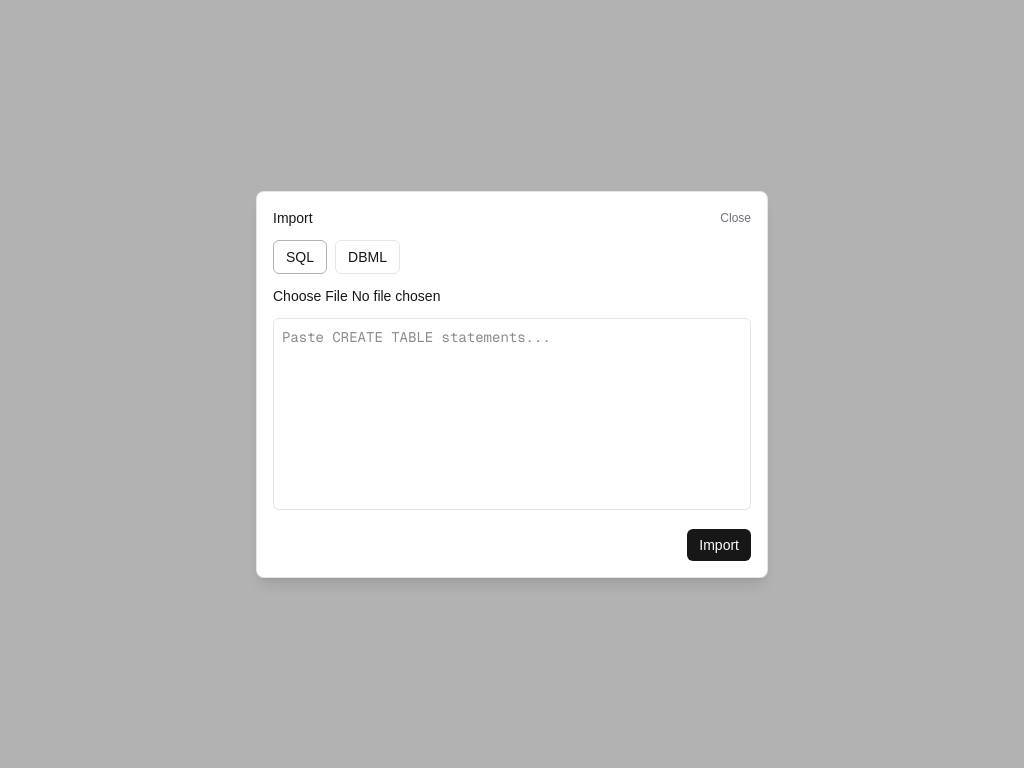
ImportDialog › requires some input before importing
Click the button "Import" at (719, 544), box top-left (687, 528), bottom-right (751, 560)
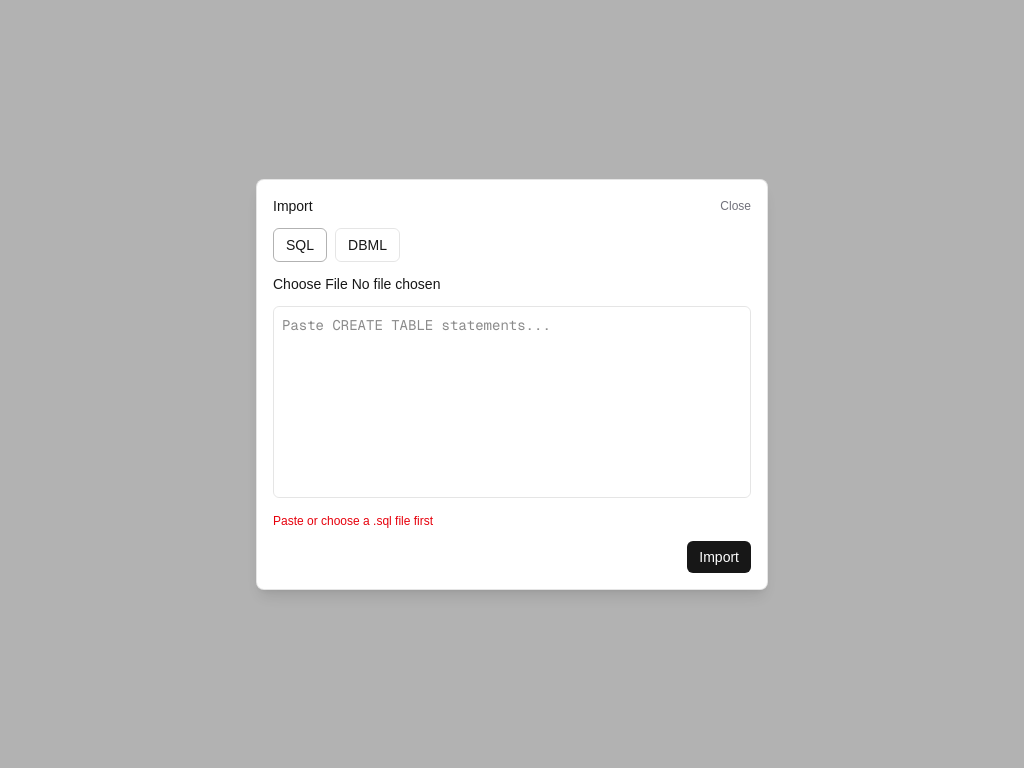
Result: the text "Paste or choose a .sql file first" is shown at top-left (273, 514), bottom-right (433, 528)
